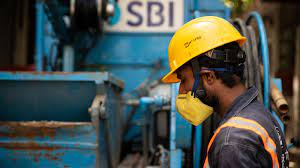Helmet: (162, 21, 246, 65)
Mask: (170, 94, 215, 124)
